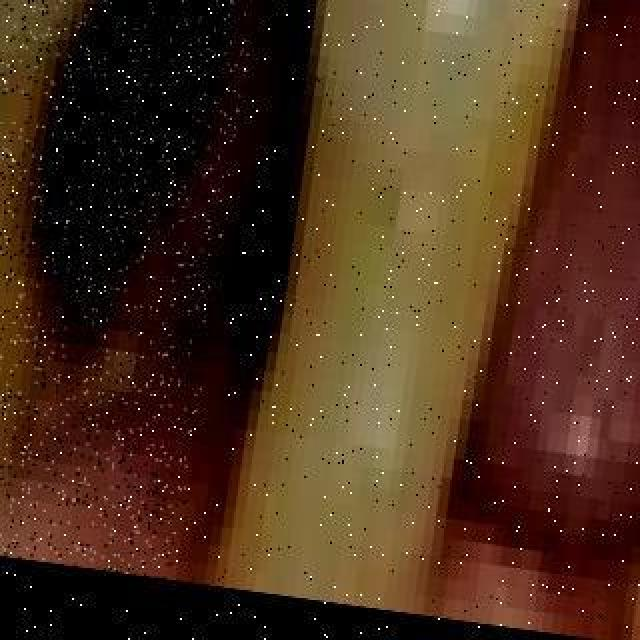cavities: (6, 0, 276, 514)
spacing: (458, 0, 640, 640)
